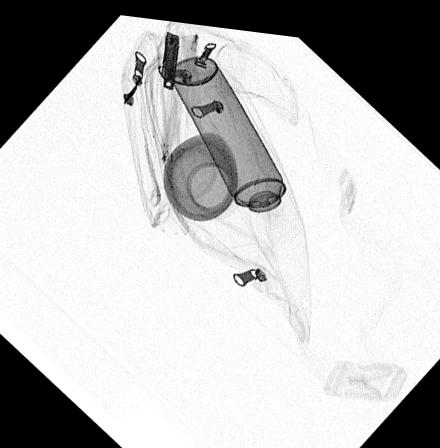Sprayer: (167, 48, 304, 229)
